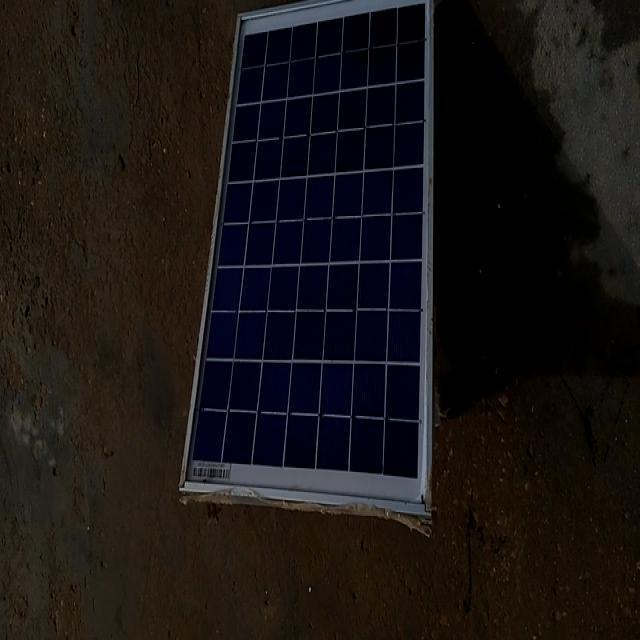Normal Solar Panel: (180, 1, 432, 531)
